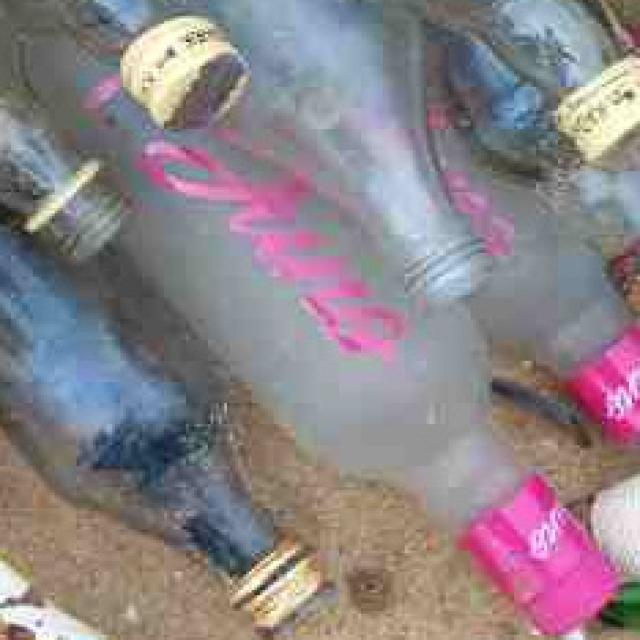kim_loai: (120, 16, 249, 128), (561, 55, 640, 163), (230, 548, 323, 633)
thuy_tinh: (3, 0, 525, 536), (3, 229, 274, 583), (211, 0, 481, 299), (429, 1, 621, 96)
